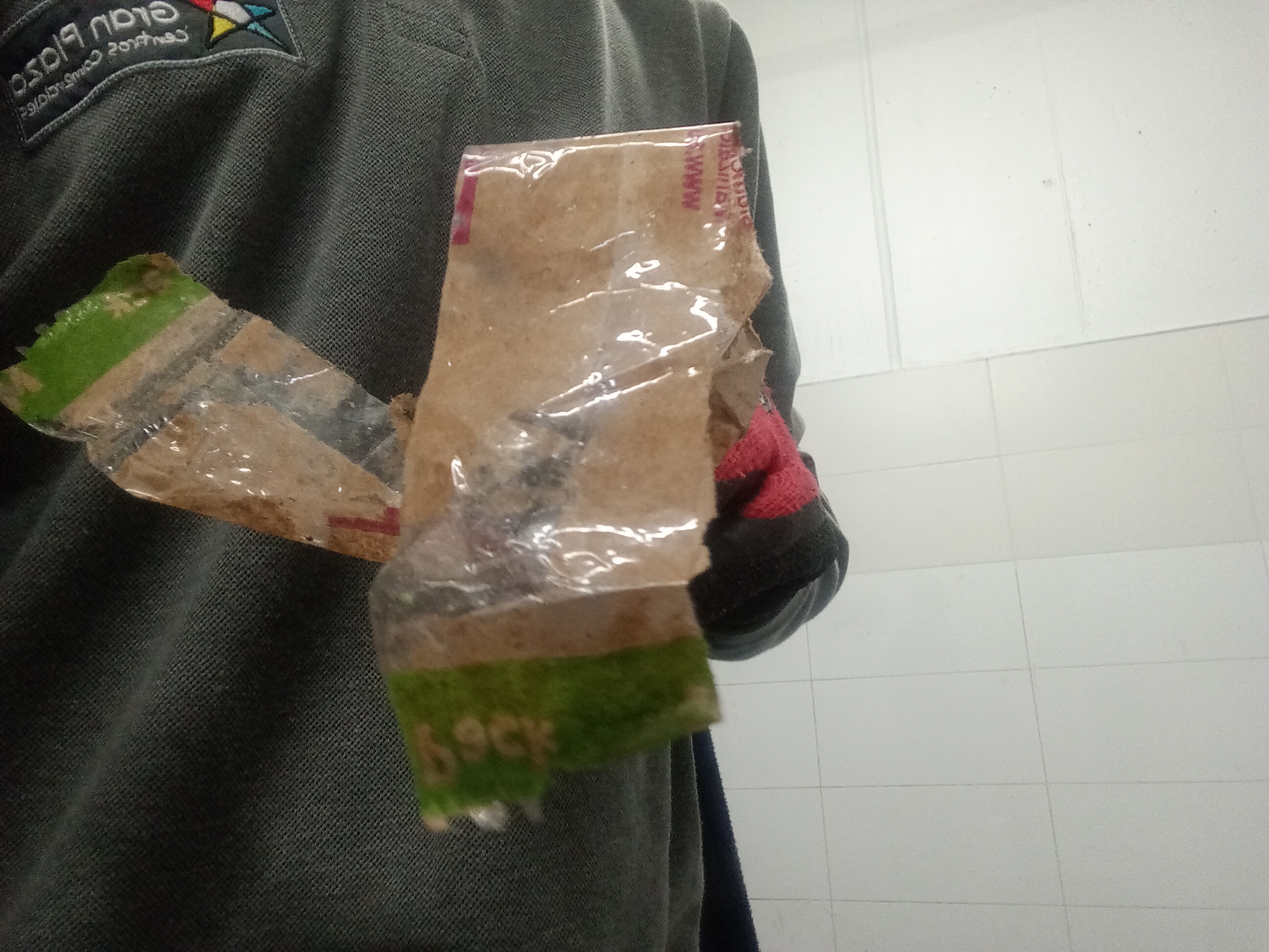Ordinario: (0, 121, 774, 831)
